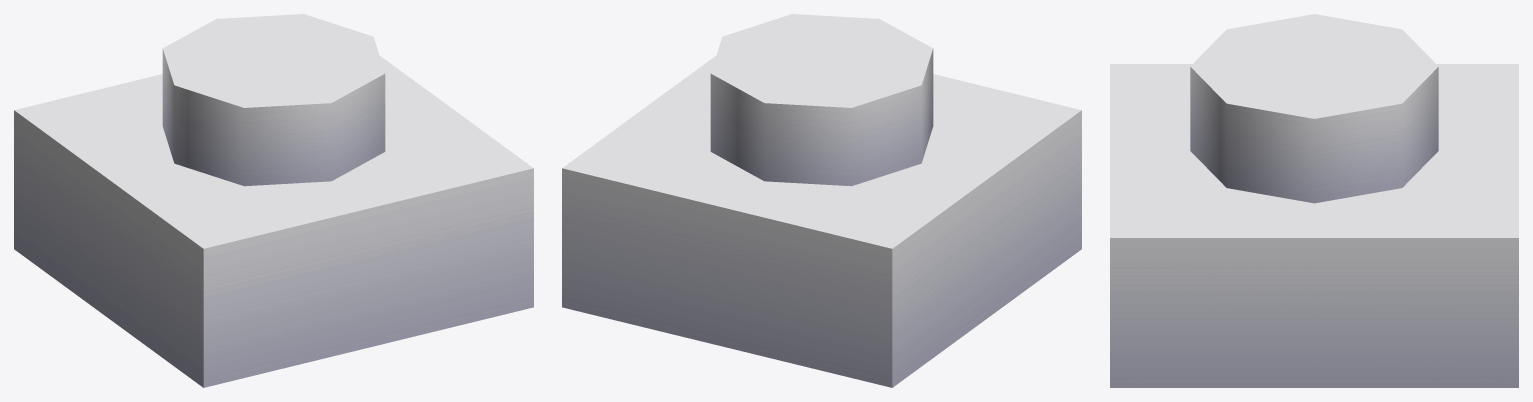
The model's file is brick-kit--round-lq-plate-1x1.glb.
3 views of the same model, side by side, from view 1: azimuth 30°, elevation 25°; view 2: azimuth 150°, elevation 25°; view 3: azimuth 270°, elevation 25° (orthographic). The views are drawn at different scales.
Parts seen in each view (by area): view 1: round-lq-plate-1x1; view 2: round-lq-plate-1x1; view 3: round-lq-plate-1x1.
Part boxes in pixels (x1,y1,x2,y2): round-lq-plate-1x1: [14, 14, 533, 387]; round-lq-plate-1x1: [562, 14, 1081, 387]; round-lq-plate-1x1: [1110, 14, 1518, 387].
Bounding box in the file's own units: 0.0795 × 0.05 × 0.079.
1 material, 1 textured.
